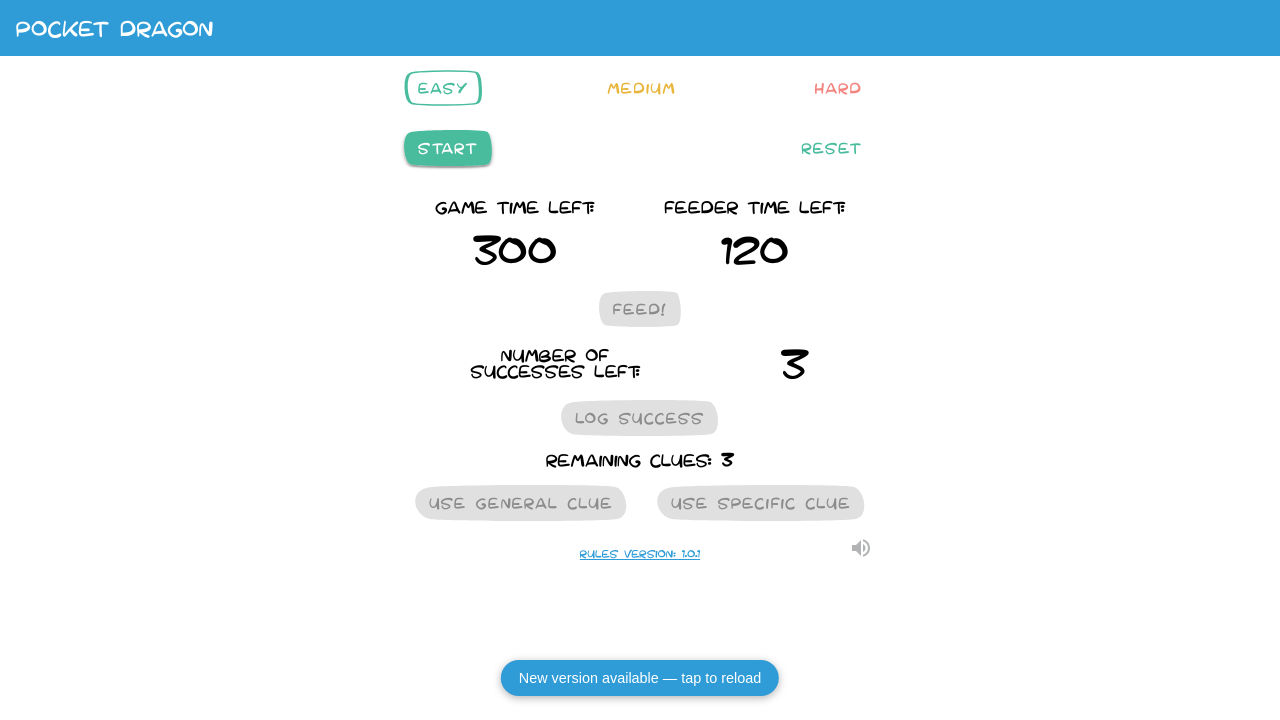
it: App reload button › shows again while a game is paused
Step 1. Click the button with test id "start-pause" → (448, 148), box [400, 126, 496, 170]
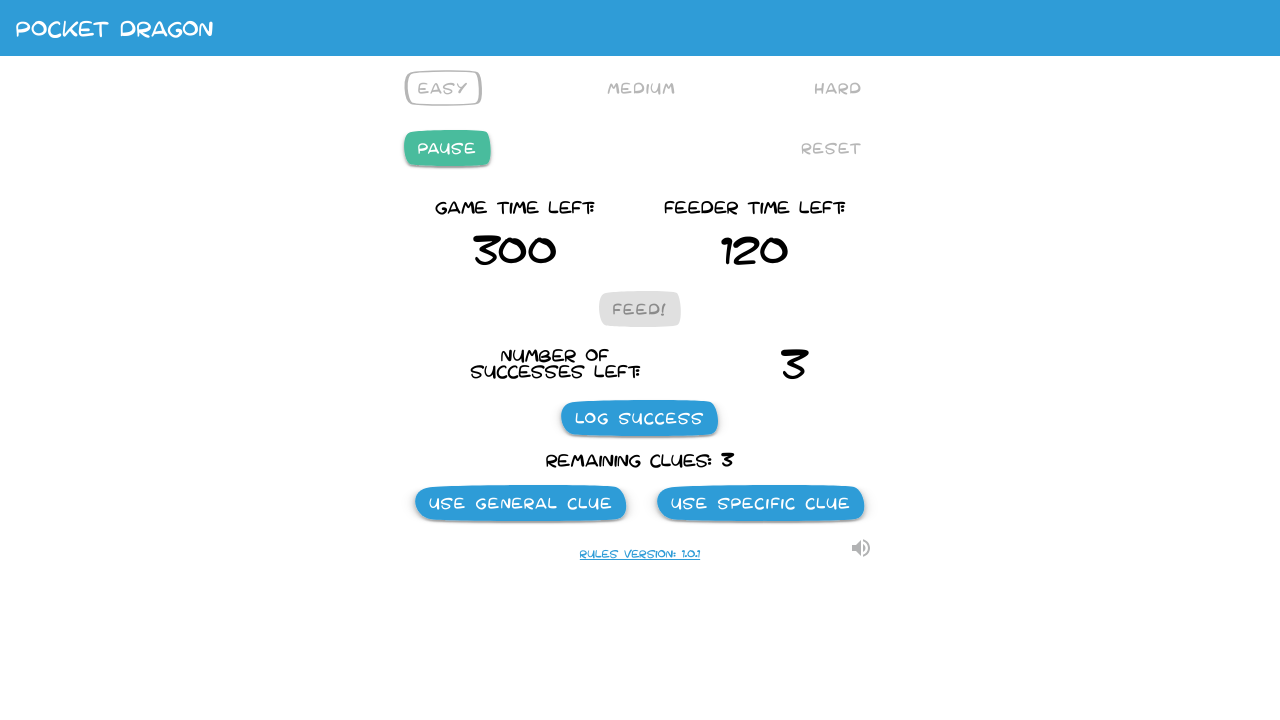
Step 2. Click the button with test id "start-pause" → (447, 148), box [400, 126, 495, 170]
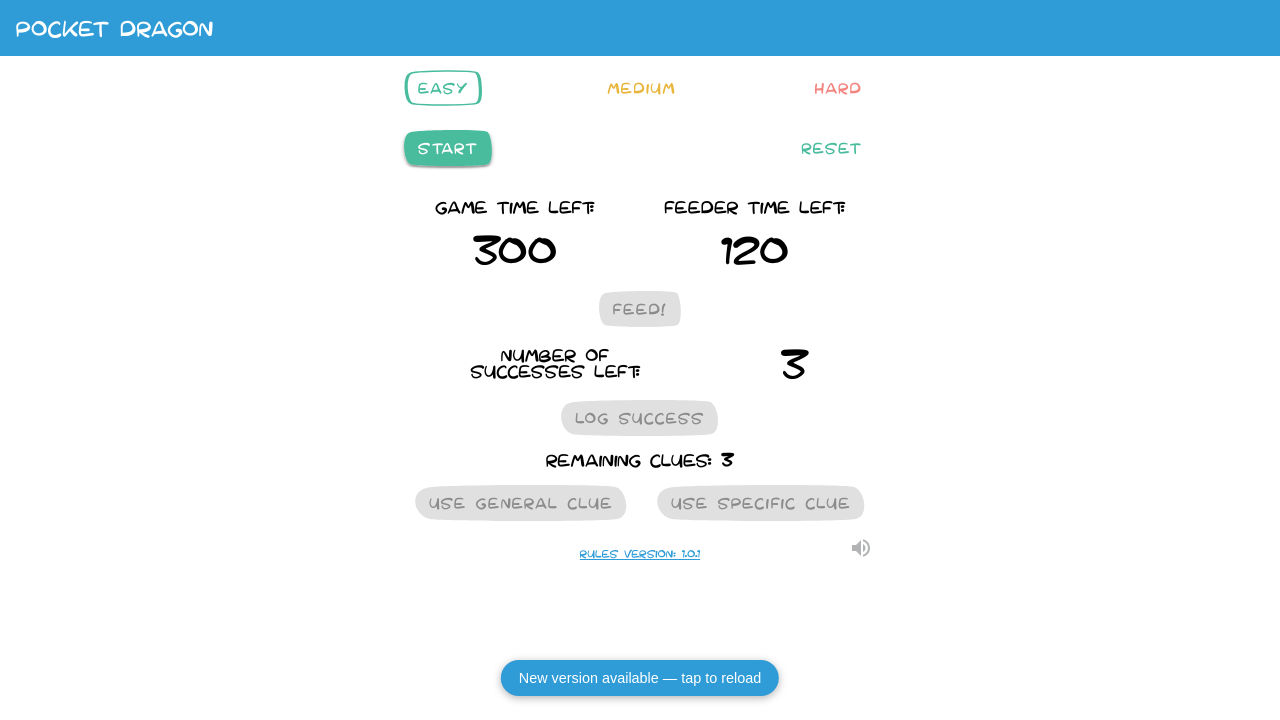
Expected: the button with test id "reload-button" is shown, [501, 660, 779, 696]
